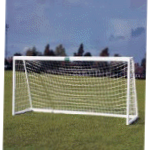goals: (11, 55, 141, 127)
